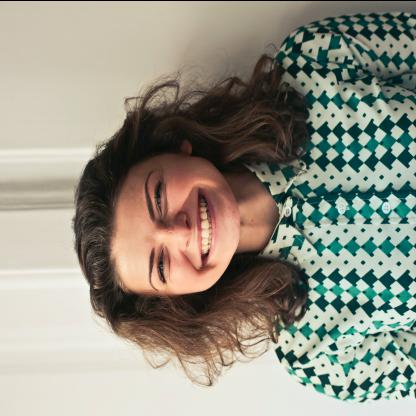Eye: (154, 175, 167, 219), (157, 246, 169, 284)
Mouth: (196, 184, 218, 266)
Nose: (159, 213, 192, 250)
